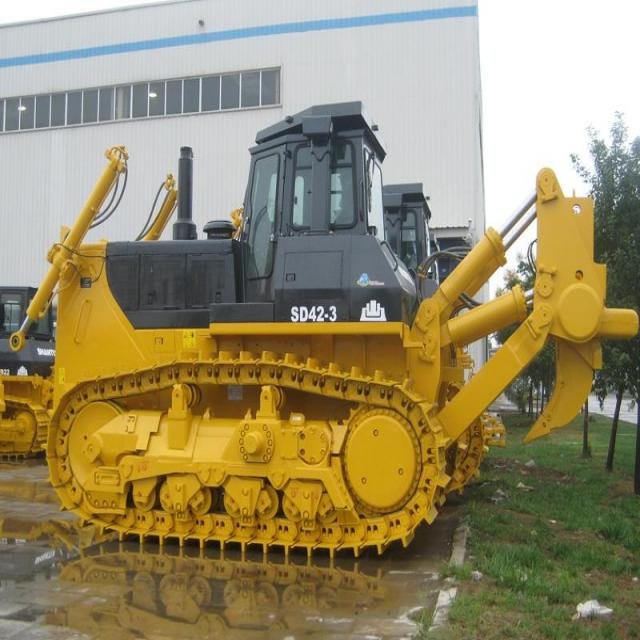Bulldozer: (31, 102, 614, 575)
